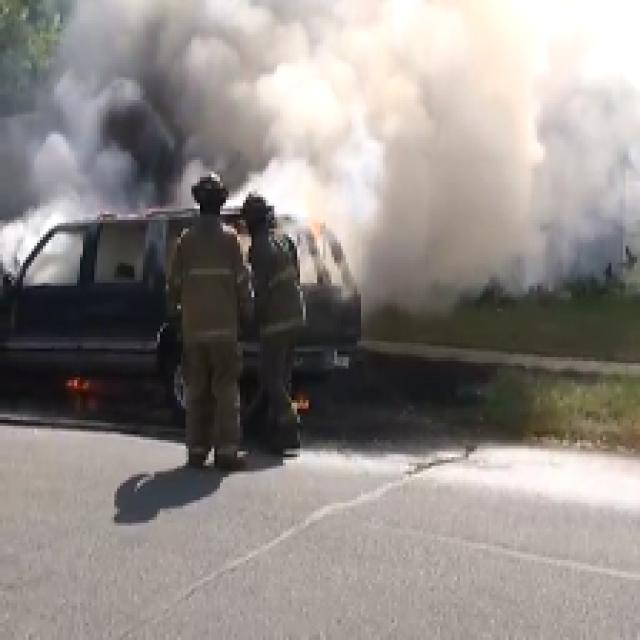smoke: (80, 5, 640, 199), (354, 205, 632, 286)
